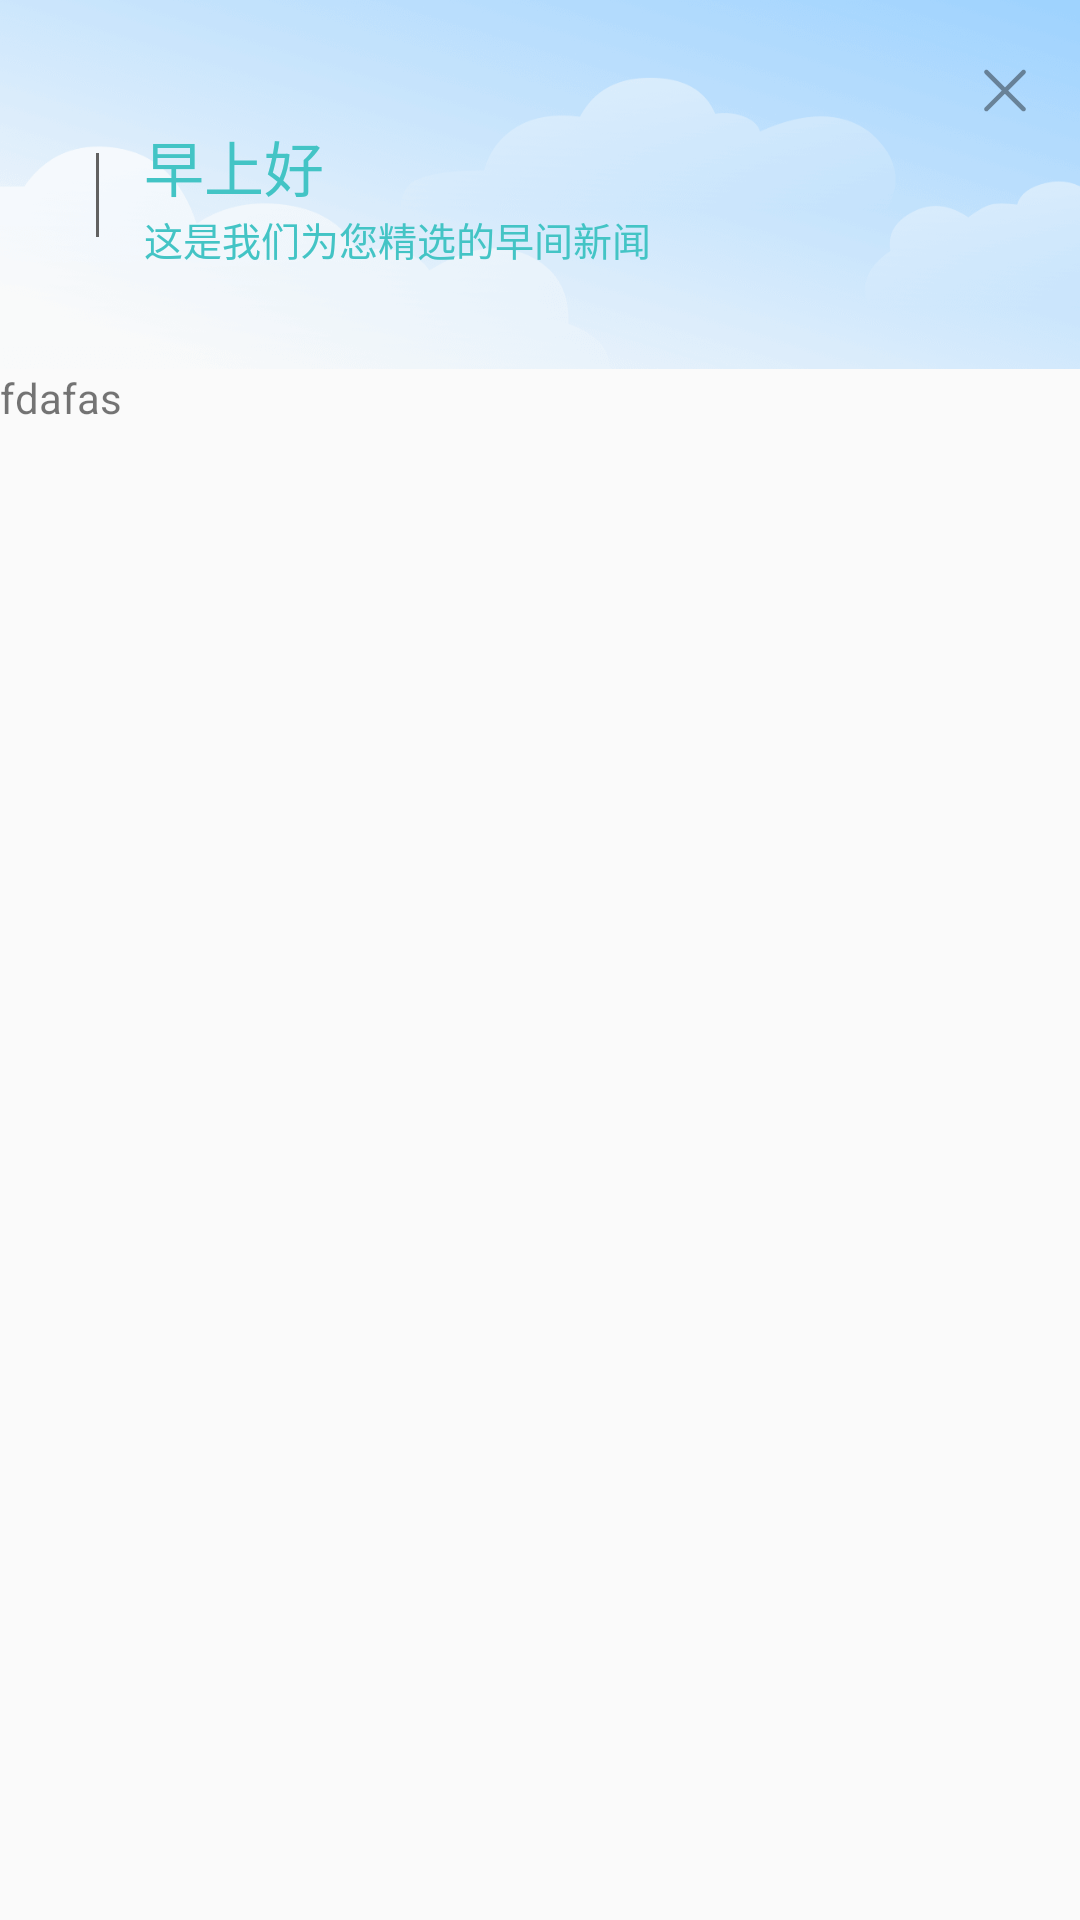

Icon click points for this 1080w x 1920h phone screenshot, format (x=x, y=y):
news close: (x=1005, y=90)
